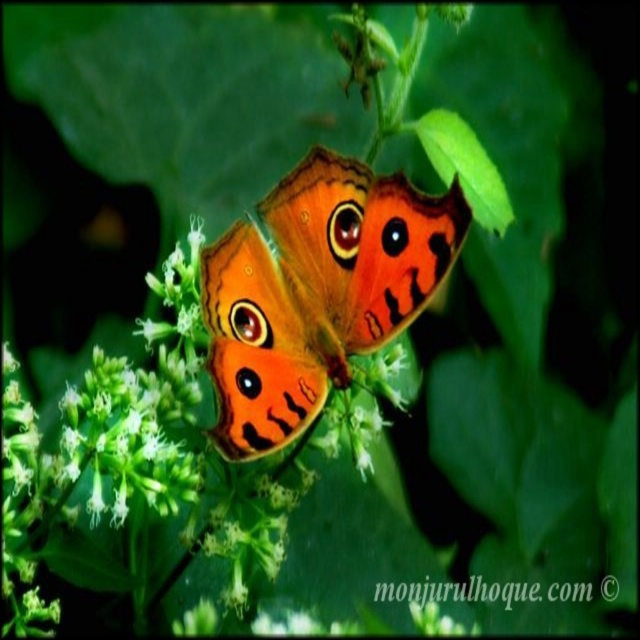Butterfly: (200, 145, 473, 463)
